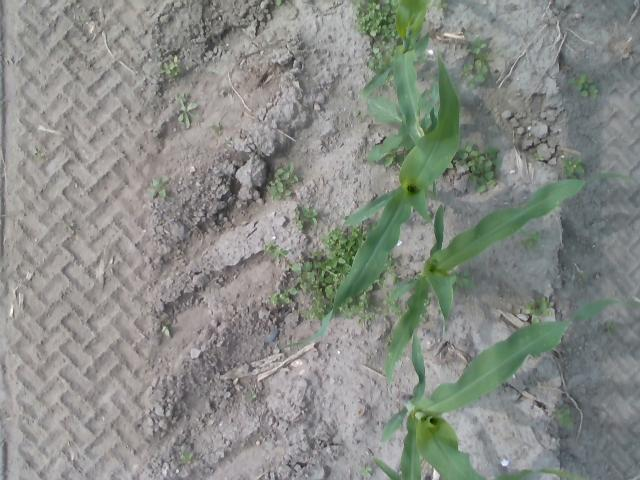Maize: (385, 172, 639, 384), (284, 53, 461, 351), (376, 298, 637, 479), (360, 1, 444, 165)
Weeds: (292, 264, 367, 313), (460, 142, 504, 195), (321, 223, 375, 265), (464, 36, 492, 92), (354, 0, 396, 36), (264, 163, 302, 202), (174, 92, 200, 127), (570, 70, 598, 100), (524, 294, 552, 317), (292, 204, 316, 230), (554, 406, 580, 430), (368, 48, 391, 72), (272, 289, 300, 308), (148, 176, 168, 198), (164, 58, 183, 80), (563, 157, 587, 174), (266, 244, 288, 259), (182, 450, 196, 464)
